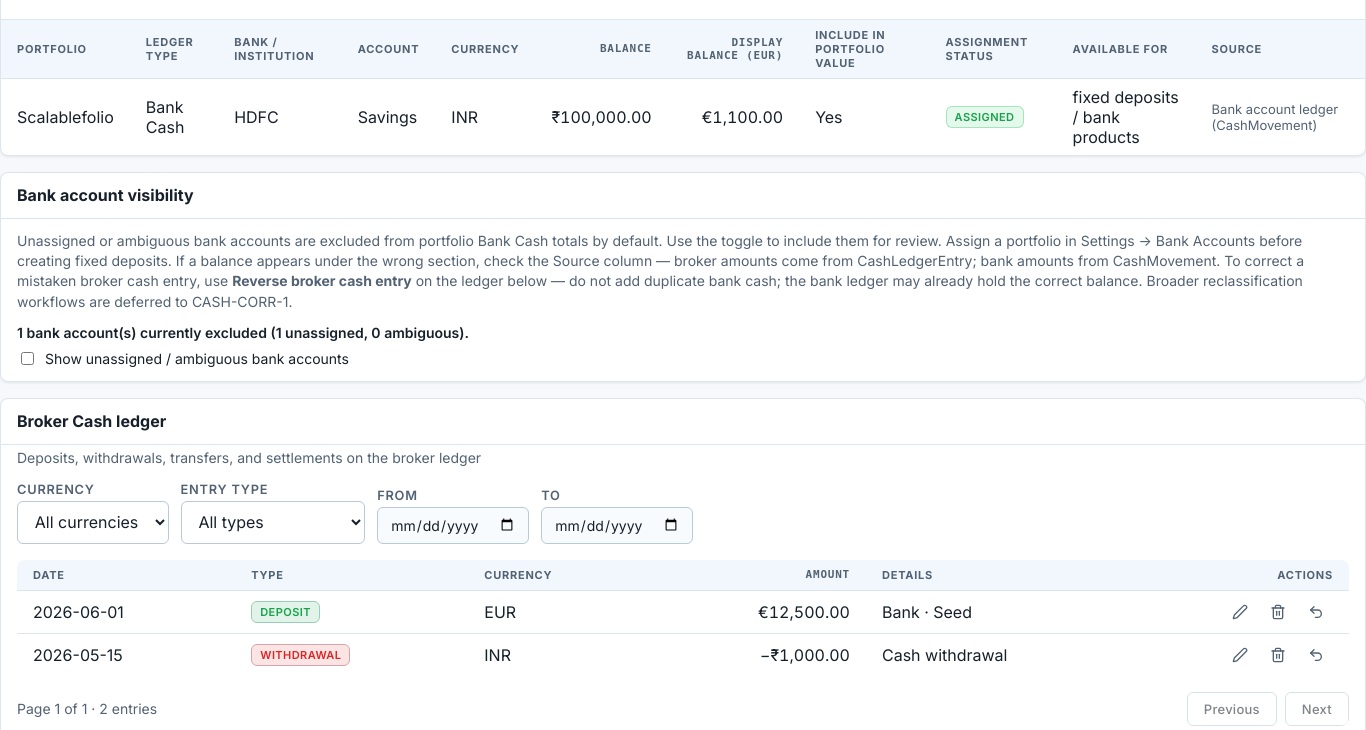
it: Cash page › displays future impact error with affected entries from delete
The image size is (1366, 730).
(page scrolled)
Step 1. Click the button named "Delete Deposit" → (1278, 612), box [1261,599,1295,625]
(page scrolled)
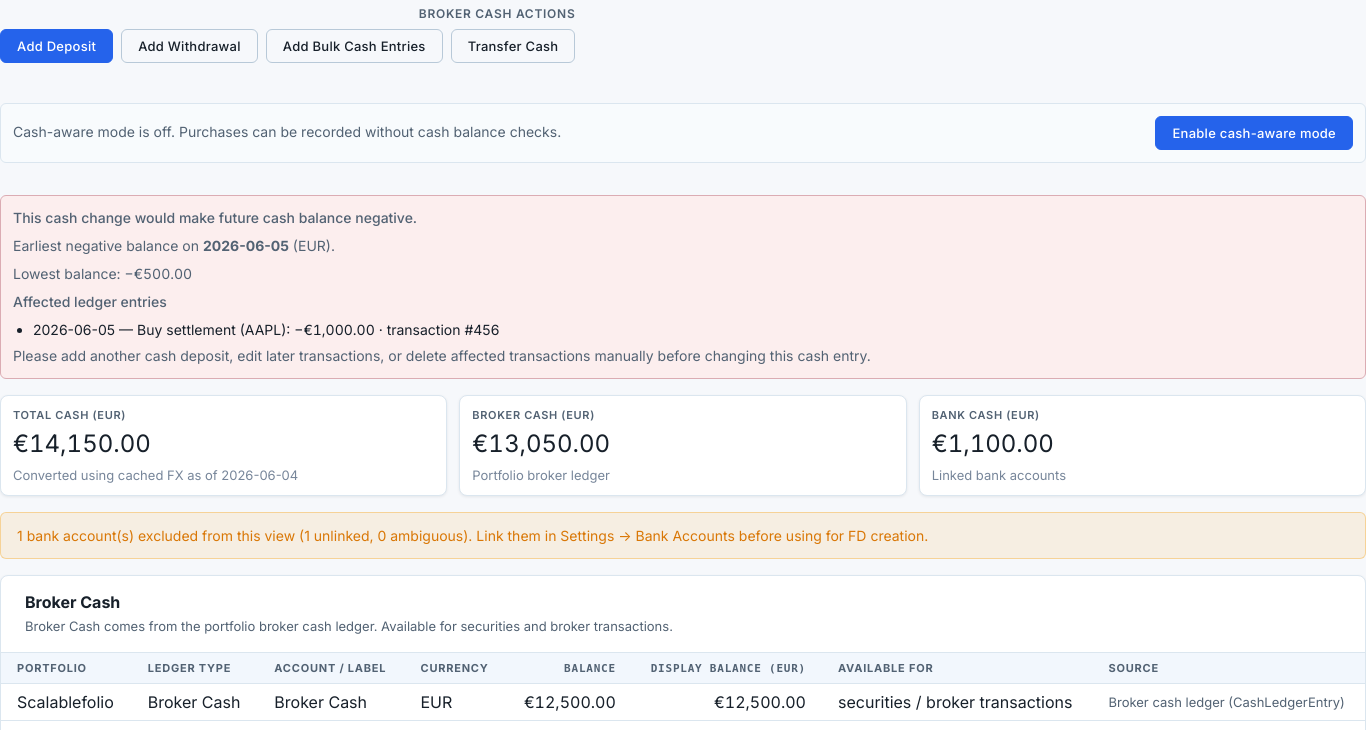
Expected: the text "This cash change would make future cash balance negative." is shown, [13,208,417,226]
Expected: the list item "AAPL" is shown, [236,321,286,338]
Expected: the text "add another cash deposit" is shown, [13,347,871,364]
